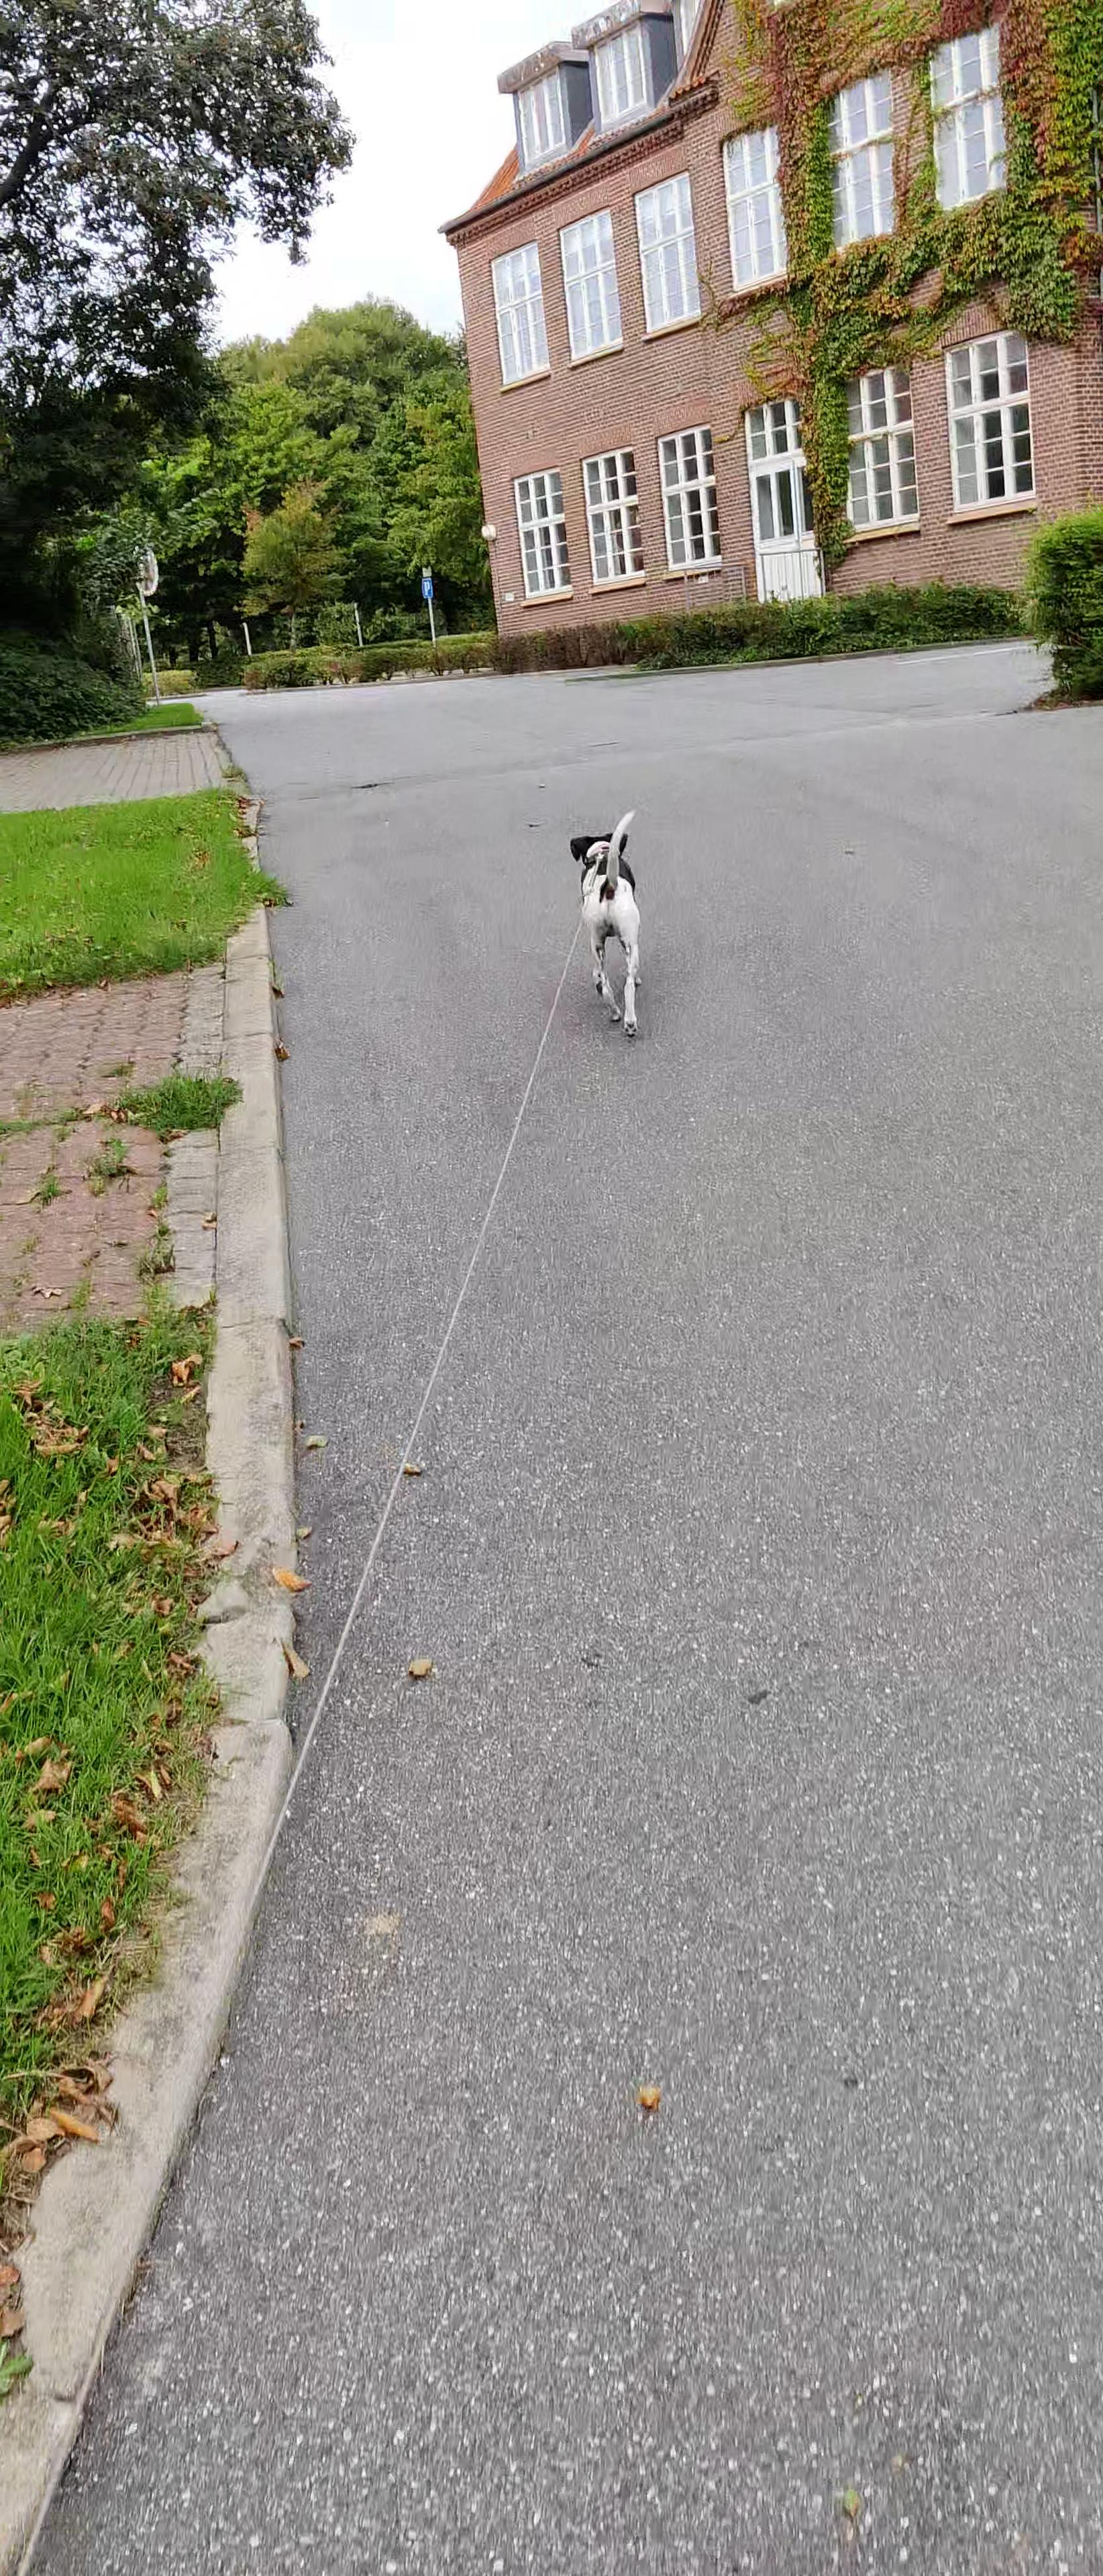Dog: (567, 803, 646, 1042)
